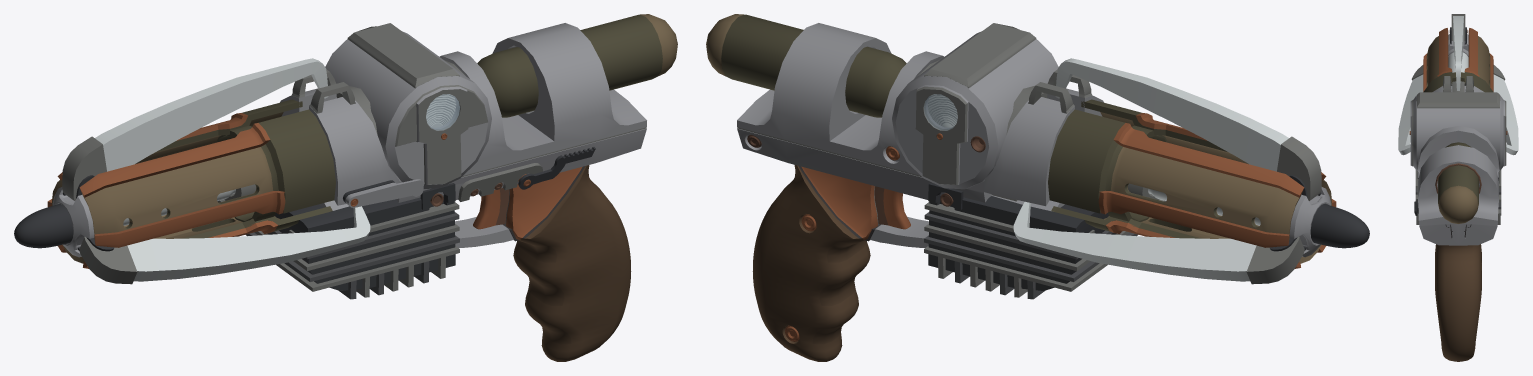
The model's file is hookgunRedux3.fbx.
3 renders of one model, left to right at view 1: azimuth 30°, elevation 25°; view 2: azimuth 150°, elevation 25°; view 3: azimuth 270°, elevation 25°, orthographic. The views are drawn at different scales.
Visible parts, largest first — view 1: Cylinder.002_LIGHT metall_0, Cube.001_wood_0, Cylinder_paint metal_0, Cylinder_dark paint metal_0, Cylinder.004_LIGHT metall_0, Cube.026_metall kryk_0, Cube.025_metall kryk_0, Cylinder.010_metal cooper _0, Cylinder.003_dark paint metal_0, Cube_Dark metall_0, Cube.010_main metall_0, Cylinder.013_main metall_0 (+21 smaller); view 2: Cylinder.002_LIGHT metall_0, Cube.001_wood_0, Cylinder_paint metal_0, Cylinder.004_LIGHT metall_0, Cylinder_dark paint metal_0, Cube.009_metall kryk_0, Cube.025_metall kryk_0, Cylinder.010_metal cooper _0, Cylinder.003_dark paint metal_0, Cube_Dark metall_0, Cube.010_main metall_0, Cylinder.013_main metall_0 (+17 smaller); view 3: Cylinder.002_LIGHT metall_0, Cube.001_wood_0, Cylinder.004_LIGHT metall_0, Cylinder.013_main metall_0, Cylinder.003_paint metal_0, Cylinder.010_metal cooper _0, Cylinder_paint metal_0, Cylinder.003_dark paint metal_0, Cube.009_metall kryk_0, Cube.026_metall kryk_0, Cube.025_metall kryk_0, Cylinder_dark paint metal_0 (+9 smaller).
Boxes of the visible parts, x1,y1,x2,y2 form: Cylinder.002_LIGHT metall_0: [280, 23, 646, 210]; Cube.001_wood_0: [513, 165, 631, 361]; Cylinder_paint metal_0: [52, 112, 283, 263]; Cylinder_dark paint metal_0: [125, 99, 335, 238]; Cylinder.004_LIGHT metall_0: [325, 31, 491, 188]; Cube.026_metall kryk_0: [127, 206, 370, 281]; Cube.025_metall kryk_0: [95, 58, 328, 171]; Cylinder.010_metal cooper _0: [47, 113, 285, 268]; Cylinder.003_dark paint metal_0: [477, 14, 662, 117]; Cube_Dark metall_0: [267, 192, 455, 290]; Cube.010_main metall_0: [254, 202, 459, 291]; Cylinder.013_main metall_0: [347, 23, 459, 88]; Cylinder.002_LIGHT metall_0: [737, 23, 1103, 211]; Cube.001_wood_0: [752, 165, 870, 361]; Cylinder_paint metal_0: [1100, 112, 1331, 263]; Cylinder.004_LIGHT metall_0: [892, 31, 1058, 189]; Cylinder_dark paint metal_0: [1048, 99, 1258, 238]; Cube.009_metall kryk_0: [1013, 201, 1256, 281]; Cube.025_metall kryk_0: [1055, 58, 1288, 171]; Cylinder.010_metal cooper _0: [1098, 113, 1336, 268]; Cylinder.003_dark paint metal_0: [721, 14, 906, 117]; Cube_Dark metall_0: [928, 192, 1116, 290]; Cube.010_main metall_0: [924, 202, 1129, 291]; Cylinder.013_main metall_0: [924, 23, 1036, 88]; Cylinder.002_LIGHT metall_0: [1418, 86, 1498, 245]; Cube.001_wood_0: [1435, 244, 1481, 361]; Cylinder.004_LIGHT metall_0: [1413, 95, 1503, 170]; Cylinder.013_main metall_0: [1416, 92, 1500, 108]; Cylinder.003_paint metal_0: [1438, 185, 1478, 223]; Cylinder.010_metal cooper _0: [1423, 28, 1493, 91]; Cylinder_paint metal_0: [1426, 36, 1490, 85]; Cylinder.003_dark paint metal_0: [1438, 142, 1478, 210]; Cube.009_metall kryk_0: [1493, 74, 1518, 155]; Cube.026_metall kryk_0: [1398, 74, 1423, 155]; Cube.025_metall kryk_0: [1453, 16, 1463, 90]; Cylinder_dark paint metal_0: [1423, 54, 1493, 92].
Size of the model in its own units: 6013 by 3130 by 1549.
